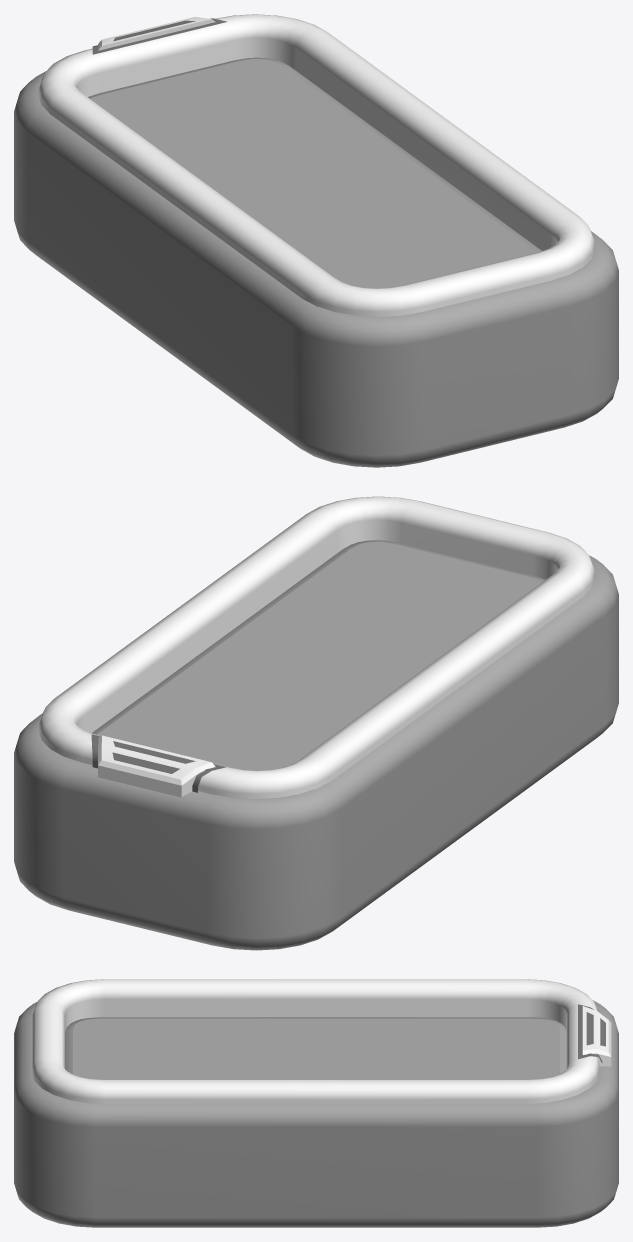
The model's file is Model_Block_2_New.fbx.
3 views of the same model, one above another, from view 1: azimuth 30°, elevation 25°; view 2: azimuth 150°, elevation 25°; view 3: azimuth 270°, elevation 25° (orthographic). The views are drawn at different scales.
Parts seen in each view (by area): view 1: Block_2_BG, Block_2_Stroke, Block_2_Water; view 2: Block_2_BG, Block_2_Stroke, Block_2_Water; view 3: Block_2_BG, Block_2_Stroke, Block_2_Water.
Boxes of the visible parts, x1,y1,x2,y2 form: Block_2_BG: (14,71,618,467); Block_2_Stroke: (38,14,595,316); Block_2_Water: (88,57,541,288); Block_2_BG: (14,555,618,950); Block_2_Stroke: (38,496,595,799); Block_2_Water: (92,540,545,770); Block_2_BG: (14,1000,618,1227); Block_2_Stroke: (32,979,611,1104); Block_2_Water: (65,1017,566,1079).
Size of the model in its own units: 98.56 by 50.91 by 197.
Materials: 2 (1 with a texture image).
